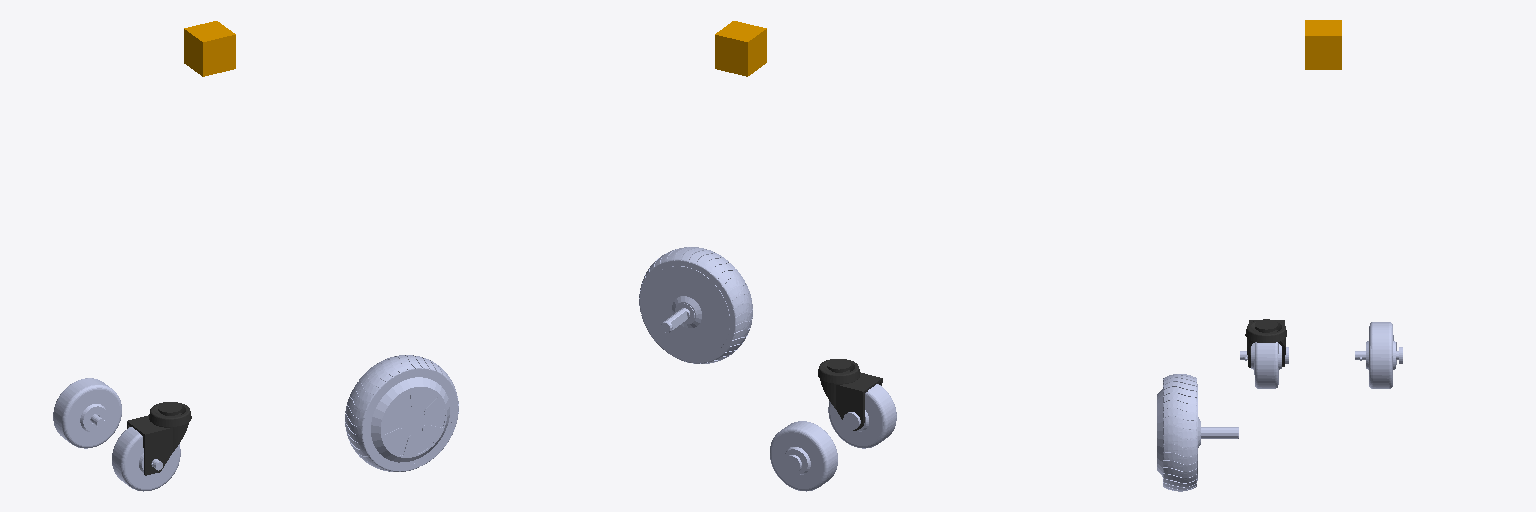
robot.urdf — chimuelo_description:
<?xml version="1.0" encoding="utf-8"?>
<!-- This URDF was automatically created by SolidWorks to URDF Exporter! Originally created by [author] ([email redacted]) 
     Commit Version: 1.6.0-1-g15f4949  Build Version: 1.6.7594.29634
     For more information, please see http://wiki.ros.org/sw_urdf_exporter -->
<robot
  name="chimuelo_description">
  <link name="base_footprint">
  </link>
  <joint name="base_joint"    type="fixed">
    <origin xyz="0 0 0.22579" rpy="0 -0.150640 0" />
    <parent link="base_footprint" />
    <child link="base_link" />
  </joint>

  <link
    name="base_link">
    <inertial>
      <origin
        xyz="-0.019376 0.0012573 0.047484"
        rpy="0 0 0" />
      <mass
        value="9.3362" />
      <inertia
        ixx="0.10996"
        ixy="-0.00014648"
        ixz="0.015965"
        iyy="0.1362"
        iyz="0.00018862"
        izz="0.18143" />
    </inertial>
    <visual>
      <origin
        xyz="0 0 0"
        rpy="0 0 0" />
      <geometry>
        <mesh
          filename="package://chimuelo_description/meshes/base_link.STL" />
      </geometry>
      <material
        name="">
        <color
          rgba="0.69412 0.098039 0.098039 1" />
      </material>
    </visual>
    <collision>
      <origin
        xyz="0 0 0.09255"
        rpy="0 0.150640 0" />
      <geometry>
        <!--mesh
          filename="package://chimuelo_description/meshes/base_link.STL" /-->
        <box size="0.4806 0.316 0.35323" />
      </geometry>
    </collision>
  </link>
  <link
    name="front_right_wheel">
    <inertial>
      <origin
        xyz="-0.030145 7.2299E-06 -7.774E-07"
        rpy="0 0 0" />
      <mass
        value="0.95802" />
      <inertia
        ixx="0.0027027"
        ixy="3.8106E-07"
        ixz="-4.0985E-08"
        iyy="0.0015854"
        iyz="-3.6463E-09"
        izz="0.0015854" />
    </inertial>
    <visual>
      <origin
        xyz="0 0 0"
        rpy="0 0 3.1416" />
      <geometry>
        <mesh
          filename="package://chimuelo_description/meshes/front_right_wheel.STL" />
      </geometry>
      <material
        name="">
        <color
          rgba="0.79216 0.81961 0.93333 1" />
      </material>
    </visual>
    <collision>
      <origin
        xyz="0.027 0 0"
        rpy="0 1.5708 0" />
      <geometry>
        <!--mesh
          filename="package://chimuelo_description/meshes/front_right_wheel.STL" /-->
        <cylinder length="0.054" radius="0.079375" />
      </geometry>
    </collision>
  </link>
  <joint
    name="front_right_joint"
    type="continuous">
    <origin
      xyz="0.15956 -0.22452 -0.14324"
      rpy="0.150640 0 1.5708" />
    <parent
      link="base_link" />
    <child
      link="front_right_wheel" />
    <axis
      xyz="1 0 0" />
  </joint>
  <link
    name="front_left_wheel">
    <inertial>
      <origin
        xyz="0.080855 -3.7512E-06 6.2293E-06"
        rpy="0 0 0" />
      <mass
        value="0.95802" />
      <inertia
        ixx="0.0027027"
        ixy="-1.9771E-07"
        ixz="3.2833E-07"
        iyy="0.0015854"
        iyz="-1.5204E-08"
        izz="0.0015854" />
    </inertial>
    <visual>
      <origin
        xyz="0 0 0"
        rpy="0 0 0" />
      <geometry>
        <mesh
          filename="package://chimuelo_description/meshes/front_left_wheel.STL" />
      </geometry>
      <material
        name="">
        <color
          rgba="0.79216 0.81961 0.93333 1" />
      </material>
    </visual>
    <collision>
      <origin
        xyz="0.081 0 0"
        rpy="0 1.5708 0" />
      <geometry>
        <!--mesh
          filename="package://chimuelo_description/meshes/front_left_wheel.STL" /-->
        <cylinder length="0.054" radius="0.079375" />
      </geometry>
    </collision>
  </link>
  <joint
    name="front_left_joint"
    type="continuous">
    <origin
      xyz="0.15956 0.11368 -0.14324"
      rpy="0.150640 0 1.5708" />
    <parent
      link="base_link" />
    <child
      link="front_left_wheel" />
    <axis
      xyz="1 0 0" />
  </joint>
  <link
    name="rear_right_link">
    <inertial>
      <origin
        xyz="-0.013975 0.054321 9.9024E-05"
        rpy="0 0 0" />
      <mass
        value="0.053734" />
      <inertia
        ixx="2.524E-05"
        ixy="-1.6585E-06"
        ixz="9.9779E-08"
        iyy="2.9055E-05"
        iyz="2.0355E-07"
        izz="2.0458E-05" />
    </inertial>
    <visual>
      <origin
        xyz="0 0 0"
        rpy="0 0 0" />
      <geometry>
        <mesh
          filename="package://chimuelo_description/meshes/rear_right_link.STL" />
      </geometry>
      <material
        name="">
        <color
          rgba="0.25098 0.25098 0.25098 1" />
      </material>
    </visual>
    <collision>
      <origin
        xyz="0 0.07459 0"
        rpy="1.5708 0 0" />
      <geometry>
        <!--mesh
          filename="package://chimuelo_description/meshes/rear_right_link.STL" /-->
        <box size="0.107 0.086 0.025" />
      </geometry>
    </collision>
  </link>
  <joint
    name="rear_right_joint1"
    type="continuous">
    <origin
      xyz="-0.12756 -0.076921 -0.14918"
      rpy="1.5688 0.13961 -0.014686" />
    <parent
      link="base_link" />
    <child
      link="rear_right_link" />
    <axis
      xyz="0 1 0" />
  </joint>
  <link
    name="rear_right_wheel">
    <inertial>
      <origin
        xyz="0.0014035 7.5454E-12 1.17E-06"
        rpy="0 0 0" />
      <mass
        value="0.2056" />
      <inertia
        ixx="0.00020145"
        ixy="-4.2403E-14"
        ixz="-5.6953E-14"
        iyy="0.00011972"
        iyz="5.3531E-16"
        izz="0.00011972" />
    </inertial>
    <visual>
      <origin
        xyz="0 0 0"
        rpy="0 0 0" />
      <geometry>
        <mesh
          filename="package://chimuelo_description/meshes/rear_right_wheel.STL" />
      </geometry>
      <material
        name="">
        <color
          rgba="0.79216 0.81961 0.93333 1" />
      </material>
    </visual>
    <collision>
      <origin
        xyz="0 0 0"
        rpy="0 -1.5708 0" />
      <geometry>
        <!--mesh
          filename="package://chimuelo_description/meshes/rear_right_wheel.STL" /-->
        <cylinder length="0.032" radius="0.045" />
      </geometry>
    </collision>
  </link>
  <joint
    name="rear_right_joint2"
    type="continuous">
    <origin
      xyz="-0.03659 0.014924 -0.0015141"
      rpy="2.894 -1.5708 0" />
    <parent
      link="rear_right_link" />
    <child
      link="rear_right_wheel" />
    <axis
      xyz="1 0 0" />
  </joint>
  <link
    name="rear_left_link">
    <inertial>
      <origin
        xyz="-0.013975 0.054321 9.9024E-05"
        rpy="0 0 0" />
      <mass
        value="0.053734" />
      <inertia
        ixx="2.524E-05"
        ixy="-1.6585E-06"
        ixz="9.9779E-08"
        iyy="2.9055E-05"
        iyz="2.0355E-07"
        izz="2.0458E-05" />
    </inertial>
    <visual>
      <origin
        xyz="0 0 0"
        rpy="0 0 0" />
      <geometry>
        <mesh
          filename="package://chimuelo_description/meshes/rear_left_link.STL" />
      </geometry>
      <material
        name="">
        <color
          rgba="0.25098 0.25098 0.25098 1" />
      </material>
    </visual>
    <collision>
      <origin
        xyz="0 0.07459 0"
        rpy="1.5708 0 0" />
      <geometry>
        <!--mesh
          filename="package://chimuelo_description/meshes/rear_left_link.STL" /-->
        <box size="0.107 0.086 0.025" />
      </geometry>
    </collision>
  </link>
  <joint
    name="rear_left_joint1"
    type="continuous">
    <origin
      xyz="-0.12756 0.077079 -0.14918"
      rpy="1.5688 0.13961 -0.014686" />
    <parent
      link="base_link" />
    <child
      link="rear_left_link" />
    <axis
      xyz="0 1 0" />
  </joint>
  <link
    name="rear_left_wheel">
    <inertial>
      <origin
        xyz="0.0014035 7.5453E-12 1.17E-06"
        rpy="0 0 0" />
      <mass
        value="0.2056" />
      <inertia
        ixx="0.00020145"
        ixy="-4.2403E-14"
        ixz="-5.6953E-14"
        iyy="0.00011972"
        iyz="5.3532E-16"
        izz="0.00011972" />
    </inertial>
    <visual>
      <origin
        xyz="0 0 0"
        rpy="0 0 0" />
      <geometry>
        <mesh
          filename="package://chimuelo_description/meshes/rear_left_wheel.STL" />
      </geometry>
      <material
        name="">
        <color
          rgba="0.79216 0.81961 0.93333 1" />
      </material>
    </visual>
    <collision>
      <origin
        xyz="0 0 0"
        rpy="0 -1.5708 0" />
      <geometry>
        <!--mesh
          filename="package://chimuelo_description/meshes/rear_left_wheel.STL" /-->
        <cylinder length="0.032" radius="0.045" />
      </geometry>
    </collision>
  </link>
  <joint
    name="rear_left_joint2"
    type="continuous">
    <origin
      xyz="-0.03659 0.014924 -0.0015141"
      rpy="2.894 -1.5708 0" />
    <parent
      link="rear_left_link" />
    <child
      link="rear_left_wheel" />
    <axis
      xyz="1 0 0" />
  </joint>
  <!-- Adding front camera -->
  	<link name="camera_link">
	    <collision>
		      <origin xyz="0 0 0" rpy="0 0 0"/>
		      <geometry>
			    <box size="0.05 0.05 0.05"/>
		      </geometry>
	    </collision>
	    <visual>
		      <origin xyz="0 0 0" rpy="0 0 0"/>
		      <geometry>
			    <box size="0.05 0.05 0.05"/>
		      </geometry>
	    </visual>
	    <inertial>
		      <mass value="1e-5" />
		      <origin xyz="0 0 0" rpy="0 0 0"/>
		      <inertia ixx="1e-6" ixy="0" ixz="0" iyy="1e-6" iyz="0" izz="1e-6" />
	    </inertial>
	</link>

	<joint name="camera_joint" type="fixed">
	    <axis xyz="0 0 1" />
	    <origin xyz="0 0 0.6" rpy="0 0 0"/>
	    <parent link="base_footprint"/>
	    <child link="camera_link"/>
	</joint>
	
  	<gazebo>
		<plugin name="differential_drive_controller" filename="libgazebo_ros_diff_drive.so">

			<commandTopic>/cmd_vel</commandTopic>
			<odometryTopic>odom</odometryTopic>
			<odometryFrame>odom</odometryFrame>
			<odometrySource>world</odometrySource>
			<publishOdomTF>true</publishOdomTF>
			<robotBaseFrame>base_footprint</robotBaseFrame>
			<publishWheelTF>false</publishWheelTF>
			<publishTf>true</publishTf>
			<publishWheelJointState>true</publishWheelJointState>
			<legacyMode>false</legacyMode>
			<updateRate>30</updateRate>
			<leftJoint>front_left_joint</leftJoint>
			<rightJoint>front_right_joint</rightJoint>
			<wheelSeparation>0.33820</wheelSeparation>
			<wheelDiameter>0.15875</wheelDiameter>
			<wheelAcceleration>1</wheelAcceleration>
			<wheelTorque>10</wheelTorque>
			<rosDebugLevel>na</rosDebugLevel>

		</plugin>
	</gazebo>
	<!-- Camera plugin -->
  <gazebo reference="camera_link">
    <sensor type="camera" name="camera1">
    <visualize>true</visualize>
      <update_rate>30.0</update_rate>
      <camera name="head">
        <horizontal_fov>1.3962634</horizontal_fov>
        <image>
          <width>800</width>
          <height>800</height>
          <format>R8G8B8</format>
        </image>
        <clip>
          <near>0.02</near>
          <far>300</far>
        </clip>
        <noise>
          <type>gaussian</type>
          <!-- Noise is sampled independently per pixel on each frame.
               That pixel's noise value is added to each of its color
               channels, which at that point lie in the range [0,1]. -->
          <mean>0.0</mean>
          <stddev>0.007</stddev>
        </noise>
      </camera>
      <plugin name="camera_controller" filename="libgazebo_ros_camera.so">
        <alwaysOn>true</alwaysOn>
        <updateRate>0.0</updateRate>
        <cameraName>chimuelo/camera1</cameraName>
        <imageTopicName>image_raw</imageTopicName>
        <cameraInfoTopicName>camera_info</cameraInfoTopicName>
        <frameName>camera_link</frameName>
        <hackBaseline>0.07</hackBaseline>
        <distortionK1>0.0</distortionK1>
        <distortionK2>0.0</distortionK2>
        <distortionK3>0.0</distortionK3>
        <distortionT1>0.0</distortionT1>
        <distortionT2>0.0</distortionT2>
      </plugin>
    </sensor>
  </gazebo>
  
  <!-- LiDar plugin -->
  <gazebo reference="camera_link">
    <sensor type="ray" name="LiDar">
    <pose>0 0 0 0 0 0</pose>
    <visualize>true</visualize>
      <update_rate>30.0</update_rate>
      <ray>
        <scan>
          <horizontal>
            <samples>32</samples>
            <resolution>1</resolution>
            <min_angle>-0.53529248</min_angle>
            <max_angle>0.18622663</max_angle>
          </horizontal>
          <vertical>
            <samples>16</samples>
            <resolution>1</resolution>
            <min_angle>-0.53529248</min_angle>
            <max_angle>0.18622663</max_angle>
          </vertical>
        </scan>
        <range>
          <min>0.10</min>
          <max>30.0</max>
          <resolution>0.02</resolution>
        </range>
        <noise>
          <type>gaussian</type>
          <!-- Noise parameters based on published spec for Hokuyo laser
               achieving "+-30mm" accuracy at range < 10m.  A mean of 0.0m and
               stddev of 0.01m will put 99.7% of samples within 0.03m of the true
               reading. -->
          <mean>0.0</mean>
          <stddev>0.01</stddev>
        </noise>
      </ray>
      <plugin name="gazebo_ros_head_hokuyo_controller" filename="libgazebo_ros_block_laser.so">
        <topicName>/chimuelo/laser/scan</topicName>
        <frameName>camera_link</frameName>
      </plugin>
    </sensor>
  </gazebo>
  
</robot>

--- Facts derived from the render (not from the file) ---
Views: 3 orthographic renders of the robot side by side, from view 1: azimuth 30°, elevation 25°; view 2: azimuth 150°, elevation 25°; view 3: azimuth 270°, elevation 25°.
Robot: chimuelo_description — 9 links, 8 joints (6 continuous, 2 fixed); root link base_footprint; default pose: every joint at zero.
Visible links, largest first — view 1: front_right_wheel, rear_left_wheel, rear_right_link, camera_link, rear_right_wheel; view 2: front_right_wheel, rear_left_wheel, rear_right_wheel, camera_link, rear_right_link; view 3: front_right_wheel, rear_left_wheel, camera_link, rear_right_wheel, rear_right_link.
Link boxes in pixels (x1,y1,x2,y2): front_right_wheel: [345, 355, 458, 471]; rear_left_wheel: [53, 378, 121, 448]; rear_right_link: [127, 402, 191, 475]; camera_link: [184, 21, 235, 76]; rear_right_wheel: [112, 427, 180, 491]; front_right_wheel: [639, 247, 752, 363]; rear_left_wheel: [770, 421, 837, 491]; rear_right_wheel: [828, 384, 896, 448]; camera_link: [715, 21, 766, 76]; rear_right_link: [818, 359, 882, 430]; front_right_wheel: [1157, 374, 1238, 491]; rear_left_wheel: [1355, 322, 1402, 388]; camera_link: [1305, 20, 1341, 69]; rear_right_wheel: [1240, 342, 1288, 388]; rear_right_link: [1245, 319, 1286, 367].
Bounding box of the posed robot: 0.4442 × 0.3318 × 0.5963 m (x, y, z).
Meshes: 7 distinct files referenced, 4 mesh visuals loaded (4 binary STL); not drawn: 3 (reference not matched to a file when rendering).
